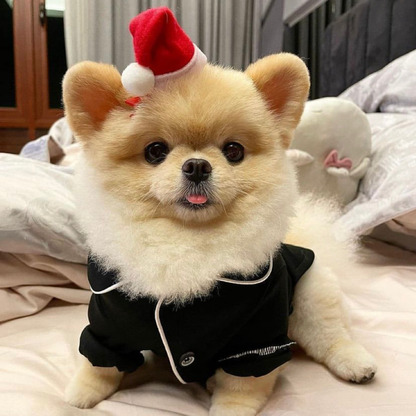Pomeranian: (37, 50, 351, 275)
